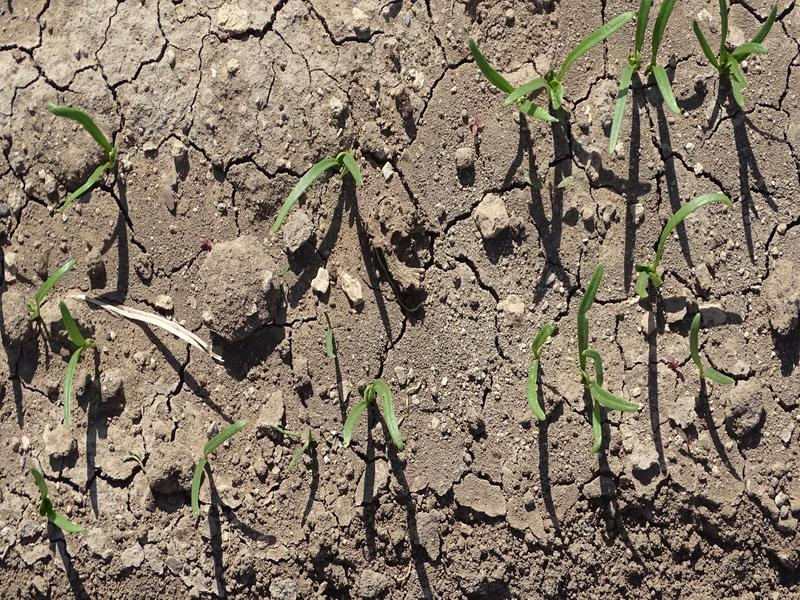Espinaca: (463, 14, 685, 143), (635, 192, 739, 293), (690, 6, 774, 109), (45, 99, 123, 207), (275, 147, 368, 228), (578, 261, 610, 446), (185, 419, 243, 513), (341, 380, 412, 447), (29, 465, 84, 541), (56, 299, 86, 422), (685, 318, 735, 385), (27, 254, 77, 313), (525, 322, 555, 418)
